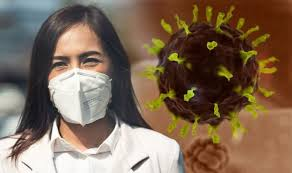mask: (37, 5, 123, 137)
